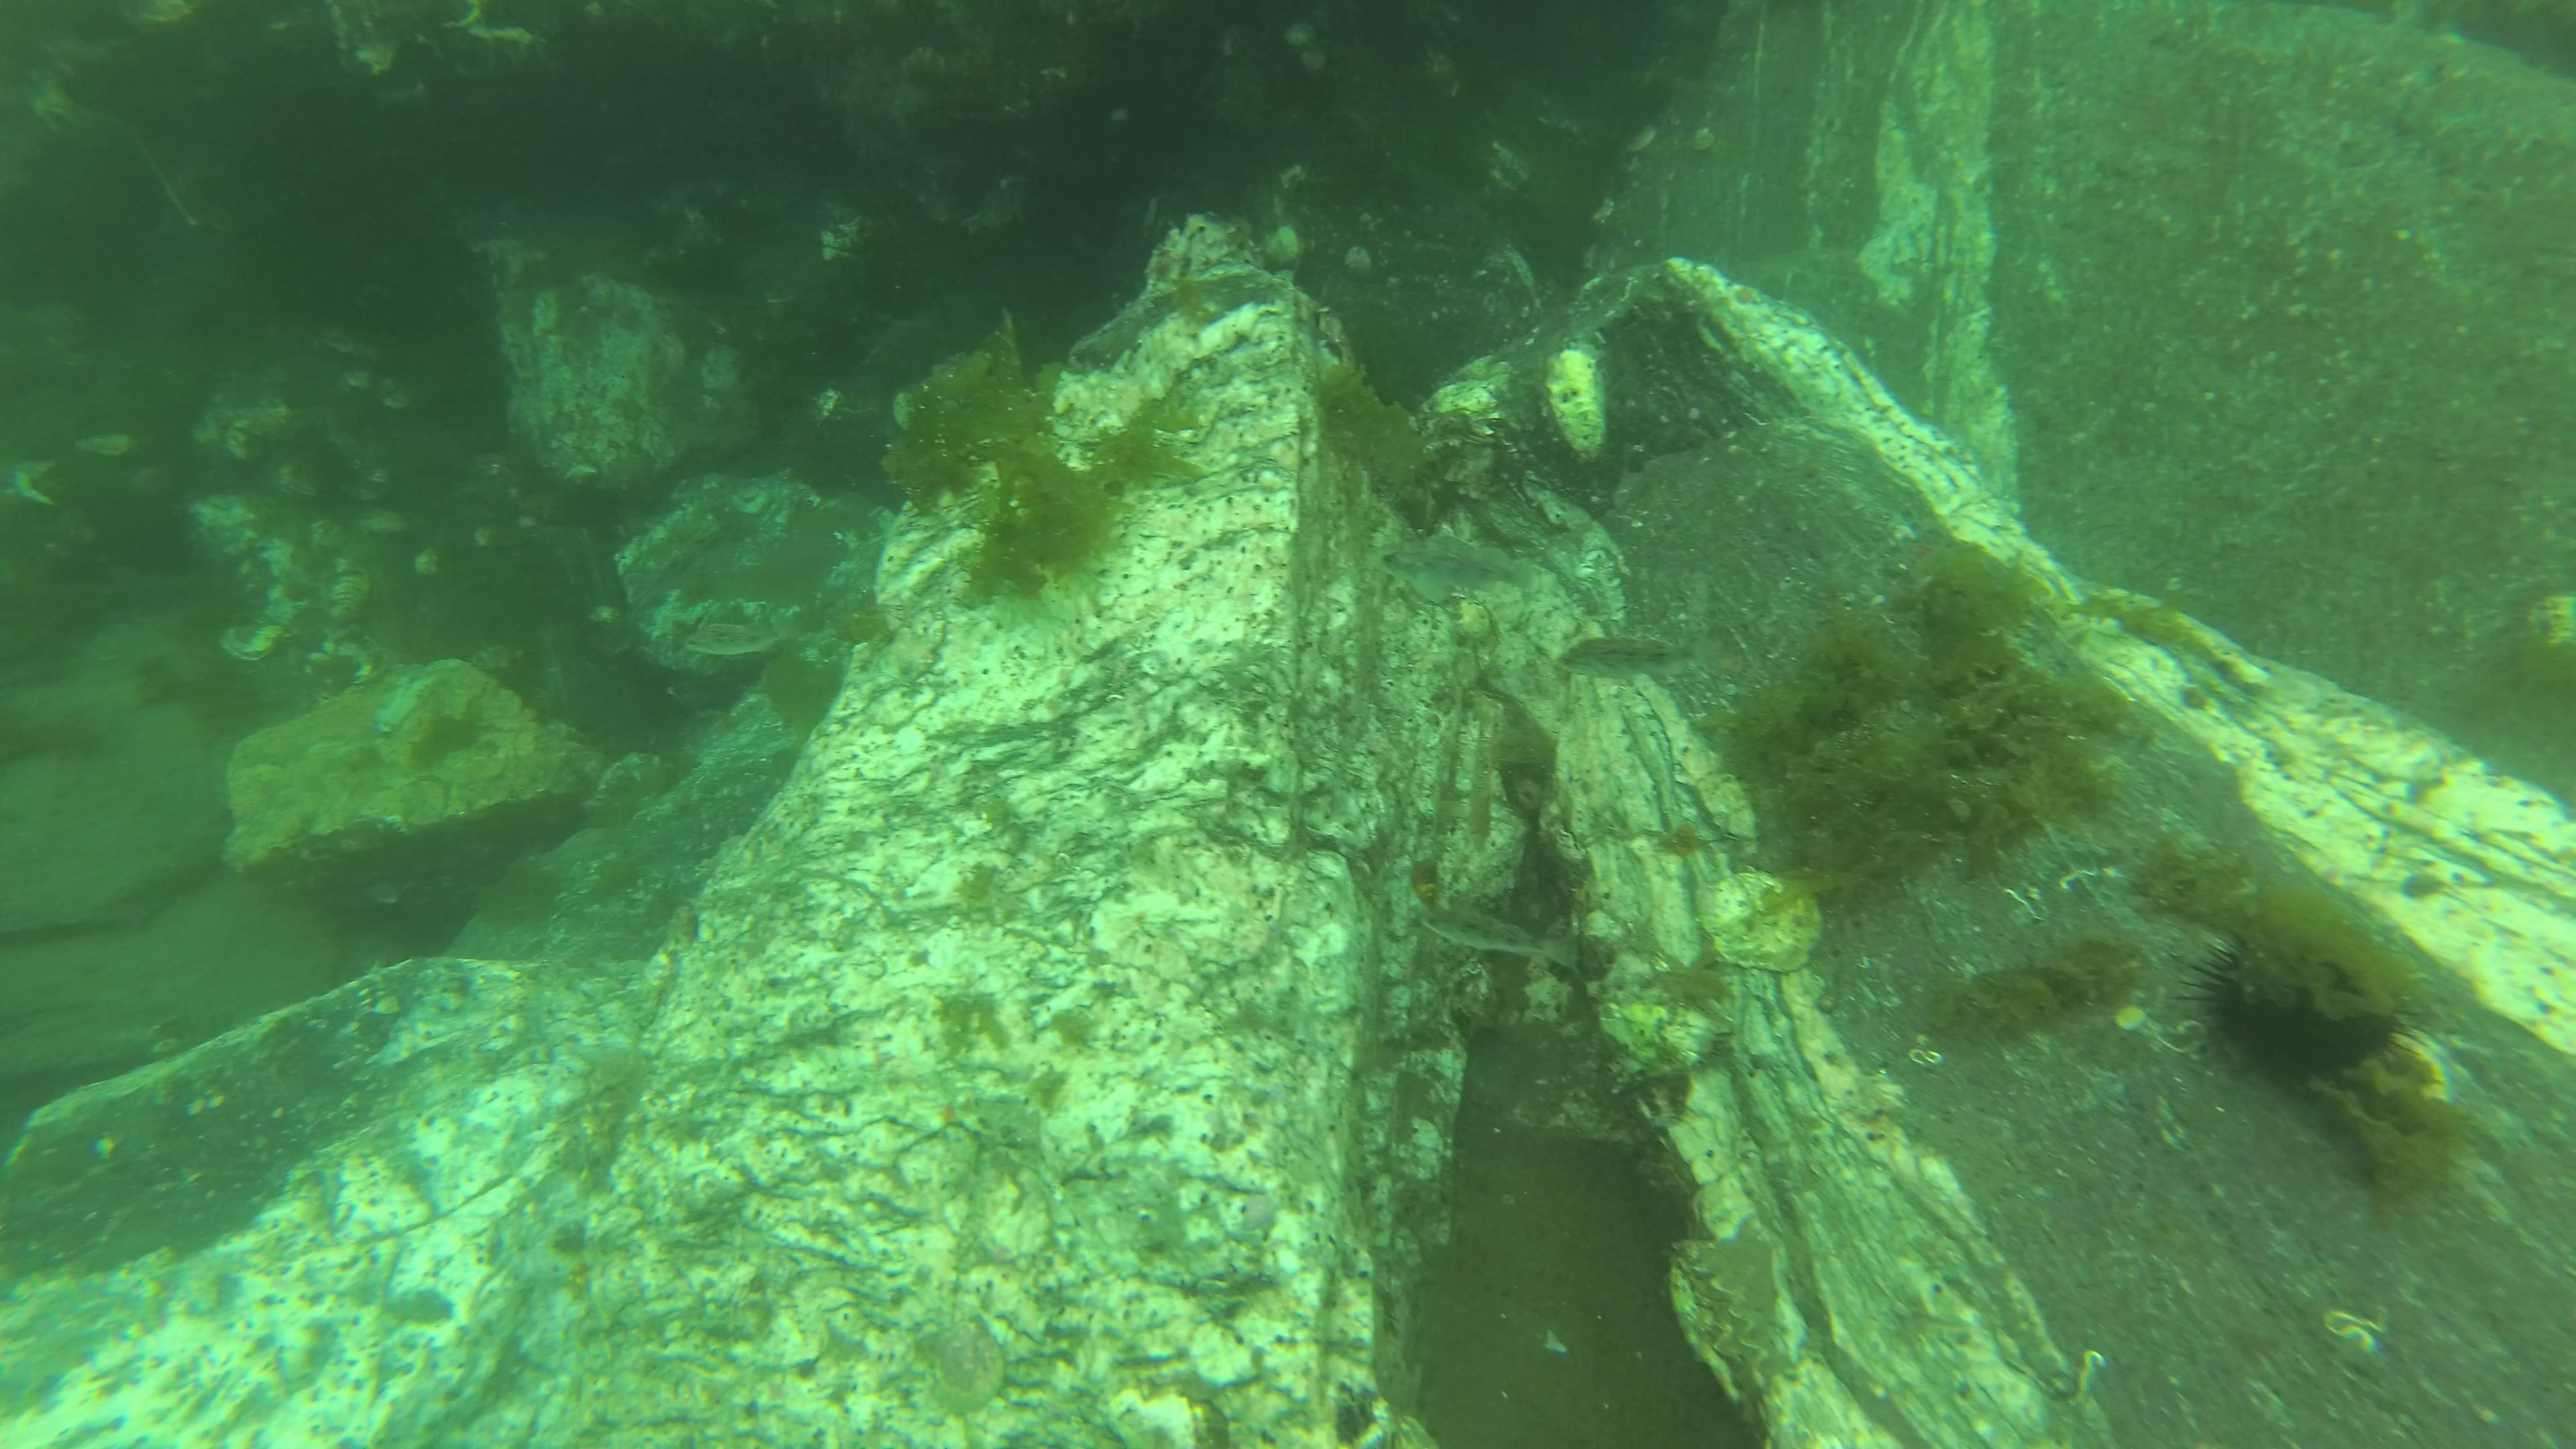echinus: (2187, 924, 2426, 1093)
